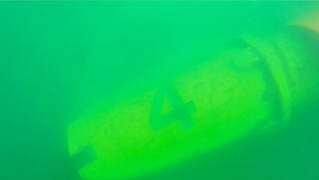4: (151, 86, 193, 130)
leak: (284, 15, 319, 34)
pipe: (66, 25, 319, 180)
